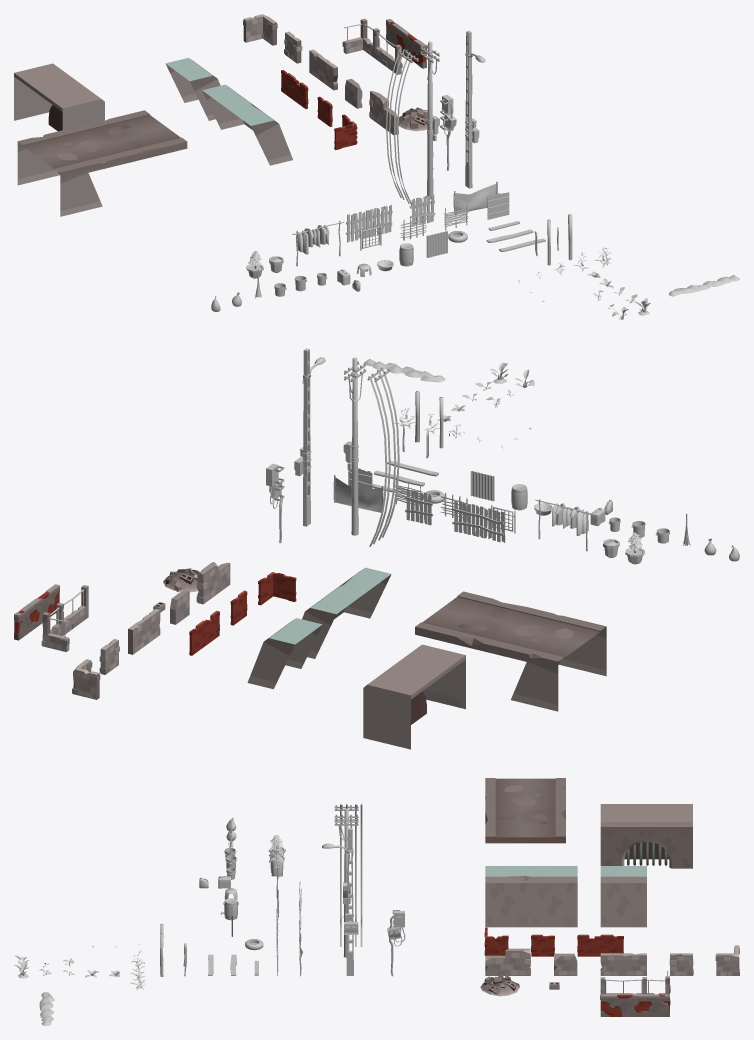
The model's file is RAC_Asset_01.fbx.
3 views of the same model, one above another, from view 1: azimuth 30°, elevation 25°; view 2: azimuth 150°, elevation 25°; view 3: azimuth 270°, elevation 25° (orthographic). The views are drawn at different scales.
Parts seen in each view (by area): view 1: SM_Bridge_001, SM_Bridge_004, SM_CanalBorder_001, SM_Bridge_002, SM_CanalBorder_002, SM_EletricPole, SM_CABLES, SM_Barrière_005, SM_Bridge_003, SM_ElectricPole_001, SM_GreyWall_005, SM_Barrière_007 (+12 smaller); view 2: SM_Bridge_001, SM_Bridge_004, SM_CanalBorder_001, SM_CanalBorder_002, SM_Bridge_002, SM_CABLES, SM_EletricPole, SM_Barrière_005, SM_Bridge_003, SM_ElectricPole_001, SM_GreyWall_001, SM_Barrière_007 (+11 smaller); view 3: SM_CanalBorder_001, SM_Bridge_004, SM_CanalBorder_002, SM_Bridge_001, SM_Bridge_002, SM_Bridge_003, SM_GreyWall_001, SM_DamagedWall_004, SM_DamagedWall_015, SM_BrickWall_002, SM_CABLES, SM_EletricPole (+9 smaller).
Boxes of the visible parts, bbox=[...] form: SM_Bridge_001: bbox=[17, 126, 123, 216]; SM_Bridge_004: bbox=[14, 63, 104, 131]; SM_CanalBorder_001: bbox=[202, 84, 292, 165]; SM_Bridge_002: bbox=[81, 115, 166, 163]; SM_CanalBorder_002: bbox=[165, 58, 220, 120]; SM_EletricPole: bbox=[420, 41, 439, 199]; SM_CABLES: bbox=[386, 47, 412, 205]; SM_Barrière_005: bbox=[346, 204, 392, 242]; SM_Bridge_003: bbox=[124, 110, 187, 153]; SM_ElectricPole_001: bbox=[465, 30, 472, 188]; SM_GreyWall_005: bbox=[243, 14, 277, 45]; SM_Barrière_007: bbox=[453, 181, 497, 215]; SM_Bridge_001: bbox=[486, 609, 606, 711]; SM_Bridge_004: bbox=[363, 644, 465, 749]; SM_CanalBorder_001: bbox=[302, 567, 391, 658]; SM_CanalBorder_002: bbox=[247, 618, 322, 689]; SM_Bridge_002: bbox=[439, 597, 534, 651]; SM_CABLES: bbox=[369, 367, 399, 546]; SM_EletricPole: bbox=[343, 357, 366, 535]; SM_Barrière_005: bbox=[452, 500, 505, 542]; SM_Bridge_003: bbox=[415, 591, 486, 640]; SM_ElectricPole_001: bbox=[303, 348, 310, 526]; SM_GreyWall_001: bbox=[196, 562, 230, 604]; SM_Barrière_007: bbox=[333, 475, 383, 512]; SM_CanalBorder_001: bbox=[485, 866, 577, 927]; SM_Bridge_004: bbox=[600, 804, 692, 868]; SM_CanalBorder_002: bbox=[600, 866, 646, 927]; SM_Bridge_001: bbox=[485, 778, 565, 807]; SM_Bridge_002: bbox=[485, 807, 565, 827]; SM_Bridge_003: bbox=[485, 827, 565, 843]; SM_GreyWall_001: bbox=[485, 948, 530, 975]; SM_DamagedWall_004: bbox=[600, 994, 646, 1016]; SM_DamagedWall_015: bbox=[600, 953, 646, 975]; SM_BrickWall_002: bbox=[577, 934, 623, 956]; SM_CABLES: bbox=[340, 804, 362, 946]; SM_EletricPole: bbox=[334, 808, 358, 957].
Size of the model in its own units: 21.09 by 7.17 by 31.43.
